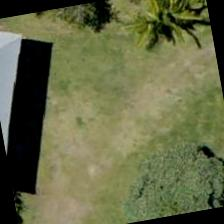Kelapa_Sawit: (115, 0, 216, 70)
